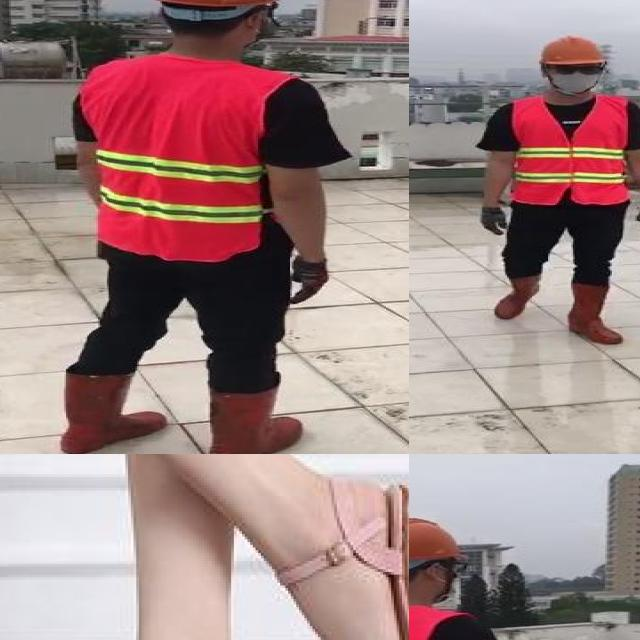Sandals: (280, 477, 409, 640)
boots: (57, 368, 171, 454), (204, 381, 300, 454), (566, 282, 626, 345), (493, 272, 546, 319)
face_mask: (548, 64, 605, 94)
glasses: (547, 60, 606, 78)
hand_glove: (288, 258, 329, 305), (477, 207, 511, 236)
head_helmet: (409, 516, 472, 564), (536, 34, 604, 66)
person: (52, 0, 326, 454), (468, 37, 640, 347), (409, 505, 535, 640)
vest: (84, 55, 281, 259), (507, 95, 630, 206)
